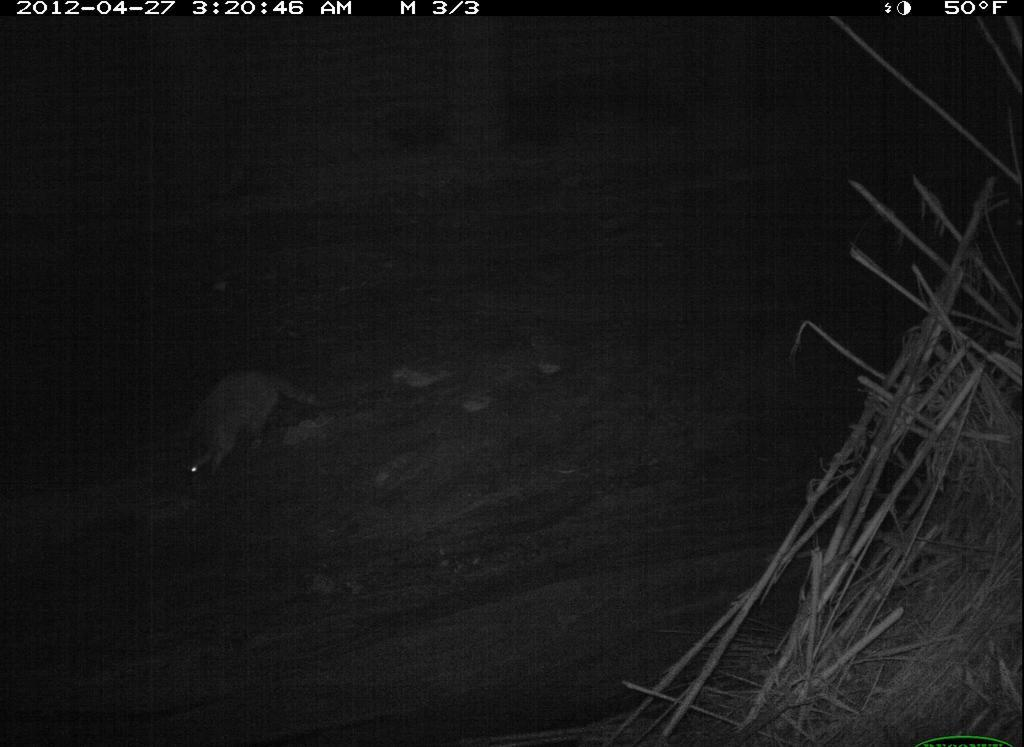raccoon: (171, 361, 328, 488)
